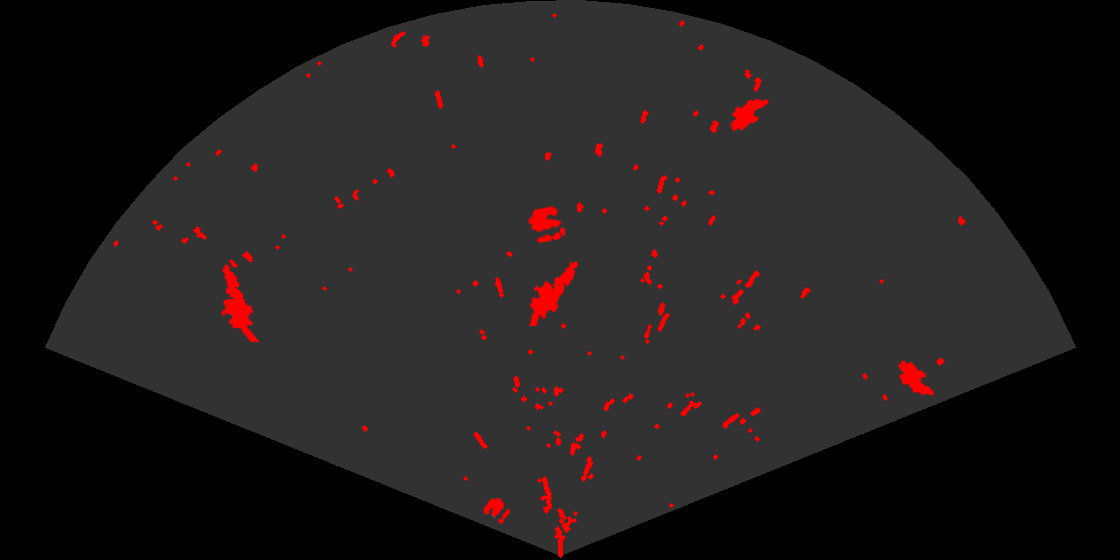AUV: (897, 359, 936, 397), (729, 97, 770, 133)
ball: (527, 205, 564, 245), (481, 496, 512, 525)
frogman: (528, 260, 580, 326), (220, 263, 261, 342)
